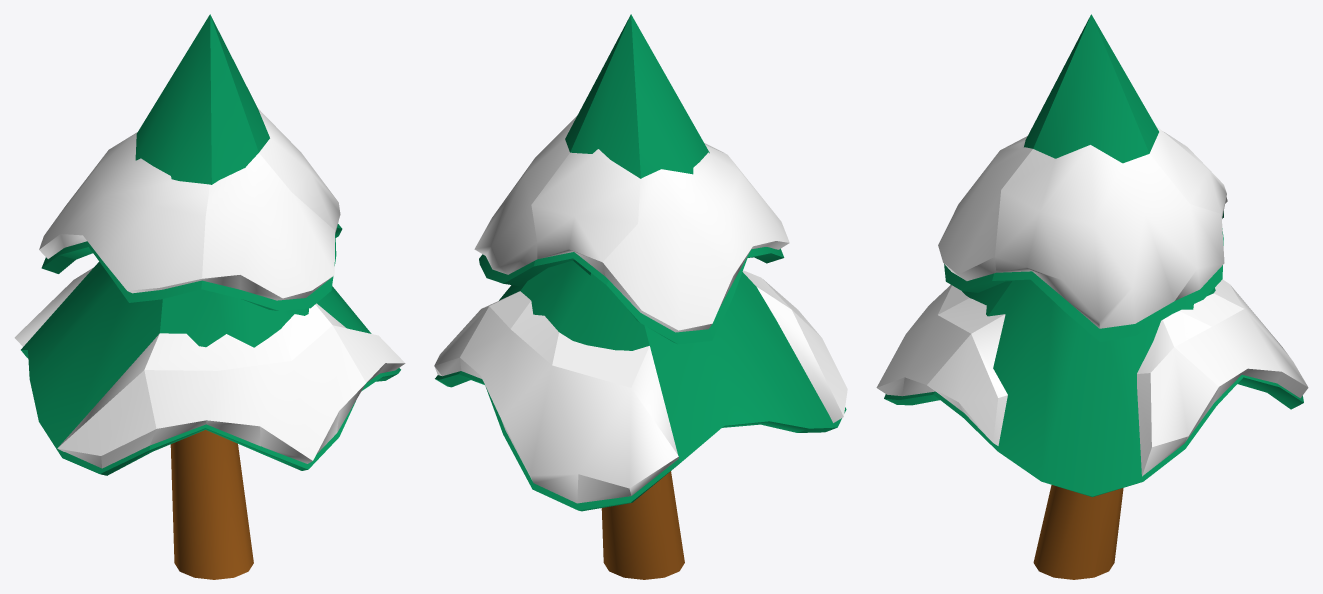
File: tree_winter3.fbx
The picture shows the model from 3 angles, left to right: view 1: azimuth 30°, elevation 25°; view 2: azimuth 150°, elevation 25°; view 3: azimuth 270°, elevation 25°; orthographic projection. The views are drawn at different scales.
Visible parts, largest first — view 1: tree_winter3; view 2: tree_winter3; view 3: tree_winter3.
Boxes of the visible parts, x1,y1,x2,y2 form: tree_winter3: [14, 14, 405, 579]; tree_winter3: [434, 14, 847, 579]; tree_winter3: [876, 14, 1308, 579].
Bounding box in the file's own units: 317 × 459 × 326.
